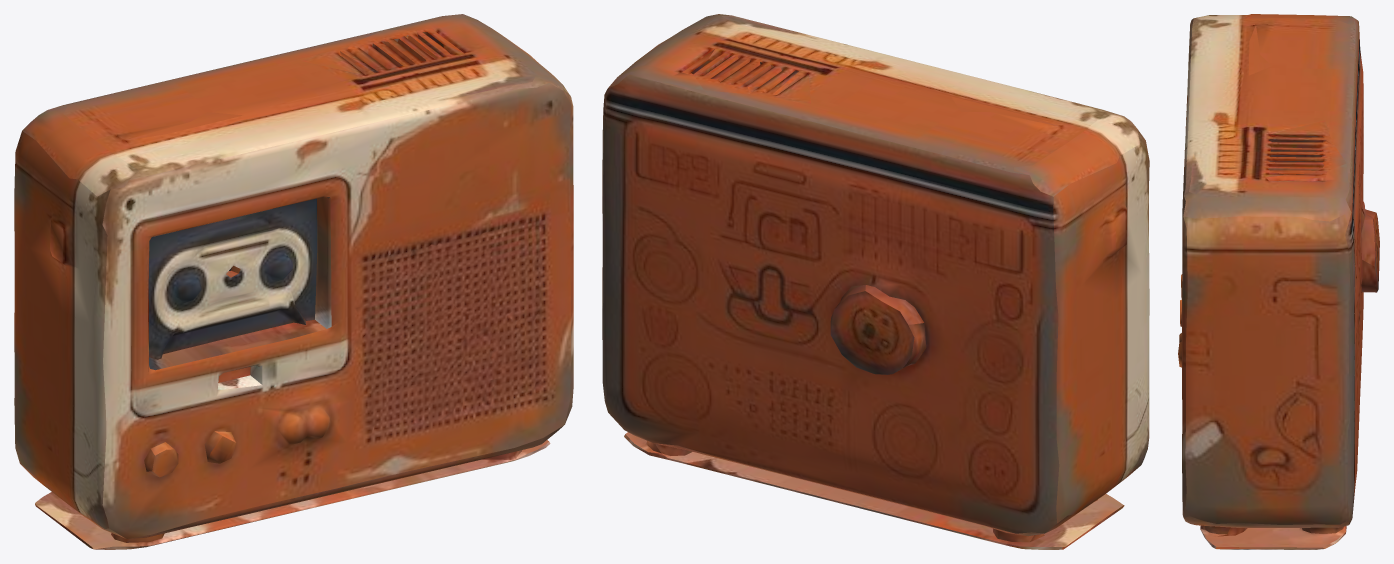
File: log_tape.glb
The picture shows the model from 3 angles, left to right: view 1: azimuth 30°, elevation 25°; view 2: azimuth 150°, elevation 25°; view 3: azimuth 270°, elevation 25°; orthographic projection. The views are drawn at different scales.
Visible parts, largest first — view 1: log_tape; view 2: log_tape; view 3: log_tape.
Boxes of the visible parts, x1,y1,x2,y2 form: log_tape: [14, 14, 573, 549]; log_tape: [602, 14, 1149, 549]; log_tape: [1178, 14, 1379, 549].
Size of the model in its own units: 1 by 0.7708 by 0.4045.
1 material, 1 textured.
